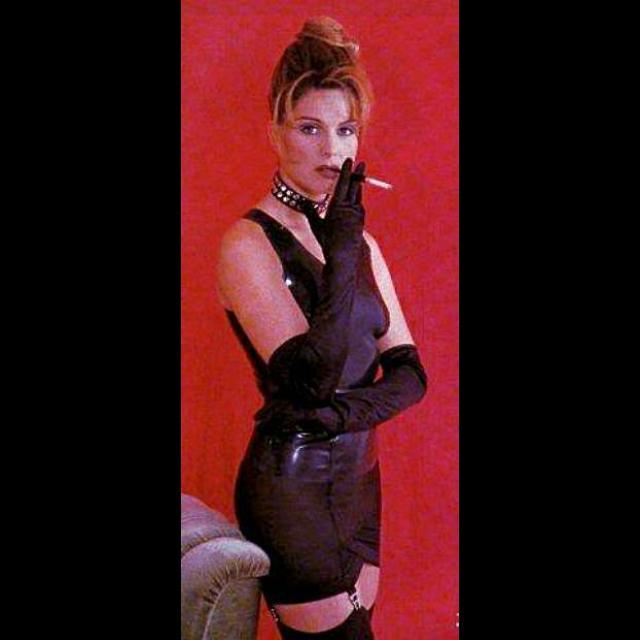rokok: (362, 168, 396, 192)
